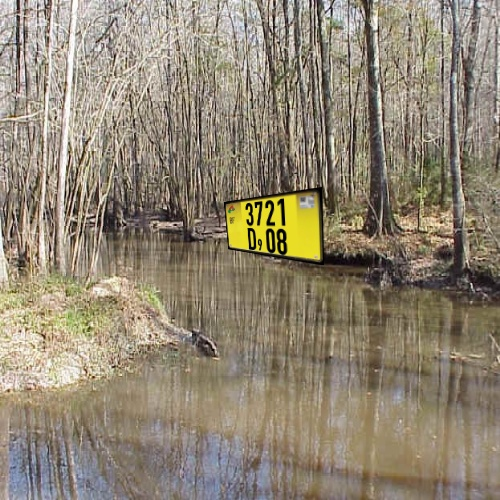plate: (215, 184, 335, 272)
